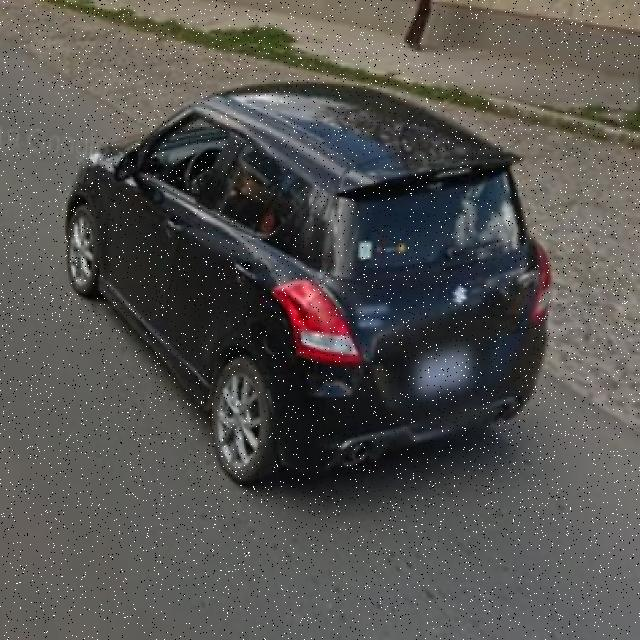cars: (54, 65, 552, 497)
